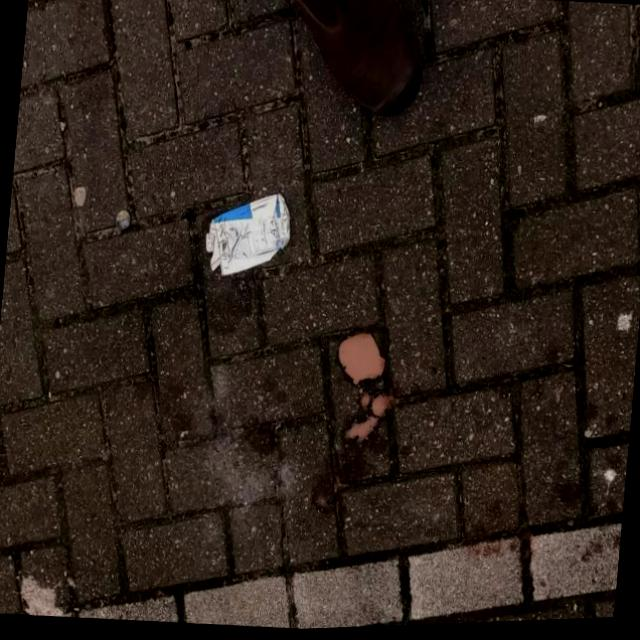Can-Metal: (201, 185, 297, 291)
